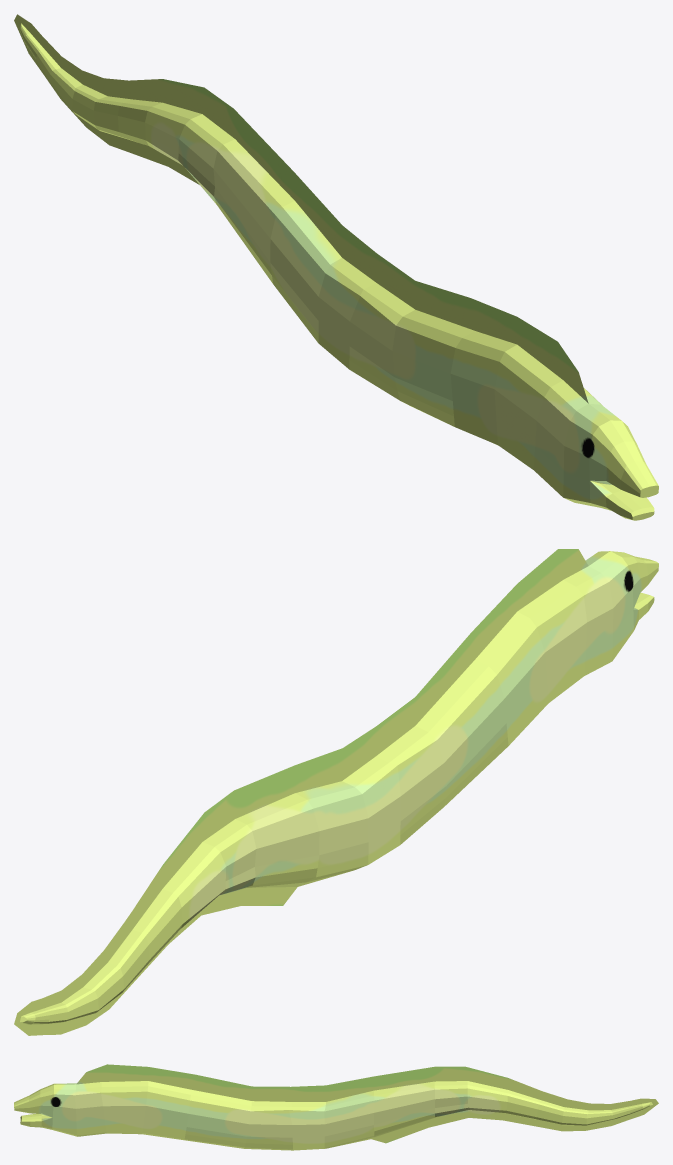
The model's file is EelFishy.fbx.
The picture shows the model from 3 angles, top to bottom: view 1: azimuth 30°, elevation 25°; view 2: azimuth 150°, elevation 25°; view 3: azimuth 270°, elevation 25°; orthographic projection. The views are drawn at different scales.
Visible parts, largest first — view 1: Cube.005; view 2: Cube.005; view 3: Cube.005.
Boxes of the visible parts, box(x1,y1,x2,y2) form: Cube.005: box(14, 14, 658, 520); Cube.005: box(14, 549, 658, 1035); Cube.005: box(14, 1064, 658, 1150).
Size of the model in its own units: 6.58 by 19.59 by 135.
Materials: 1 (1 with a texture image).
